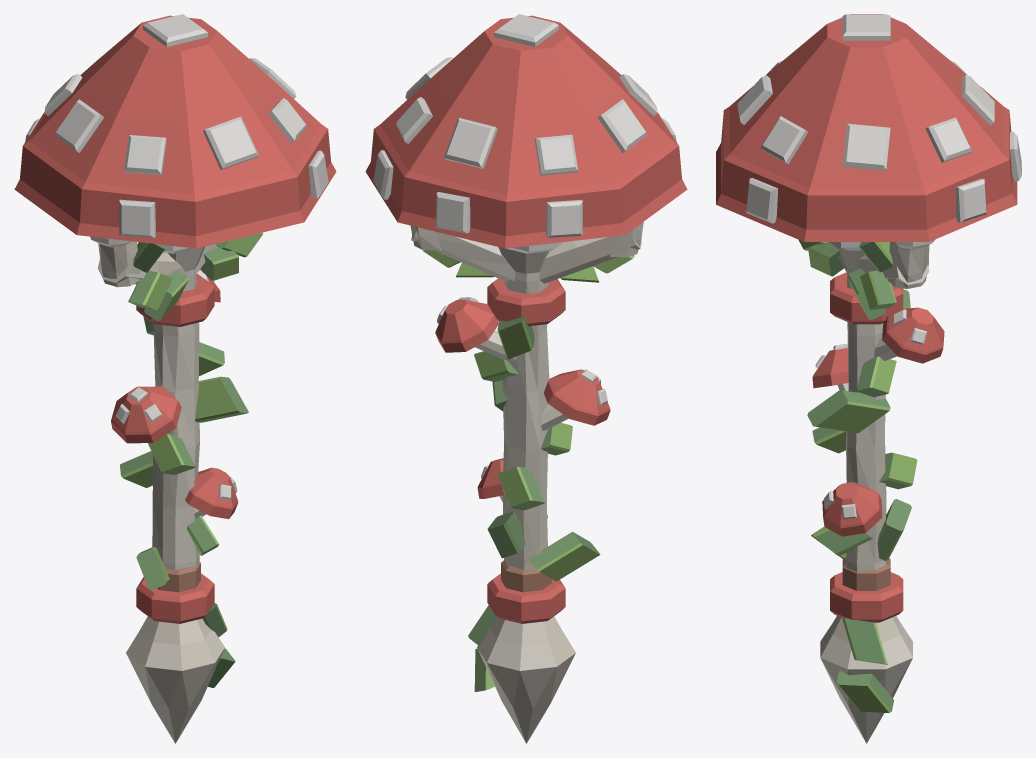
The model's file is toadstool_staff_roblox.glb.
3 views of the same model, side by side, from view 1: azimuth 30°, elevation 25°; view 2: azimuth 150°, elevation 25°; view 3: azimuth 270°, elevation 25° (orthographic).
Parts seen in each view (by area): view 1: Staff, Leaves; view 2: Staff, Leaves; view 3: Staff, Leaves.
Part boxes in pixels (<box>): Staff: <box>14,14,336,743</box>; Leaves: <box>120,232,263,687</box>; Staff: <box>365,14,687,743</box>; Leaves: <box>422,250,634,691</box>; Staff: <box>716,14,1021,743</box>; Leaves: <box>798,239,917,712</box>.
Bounding box in the file's own units: 0.536 × 1.41 × 0.5442.
